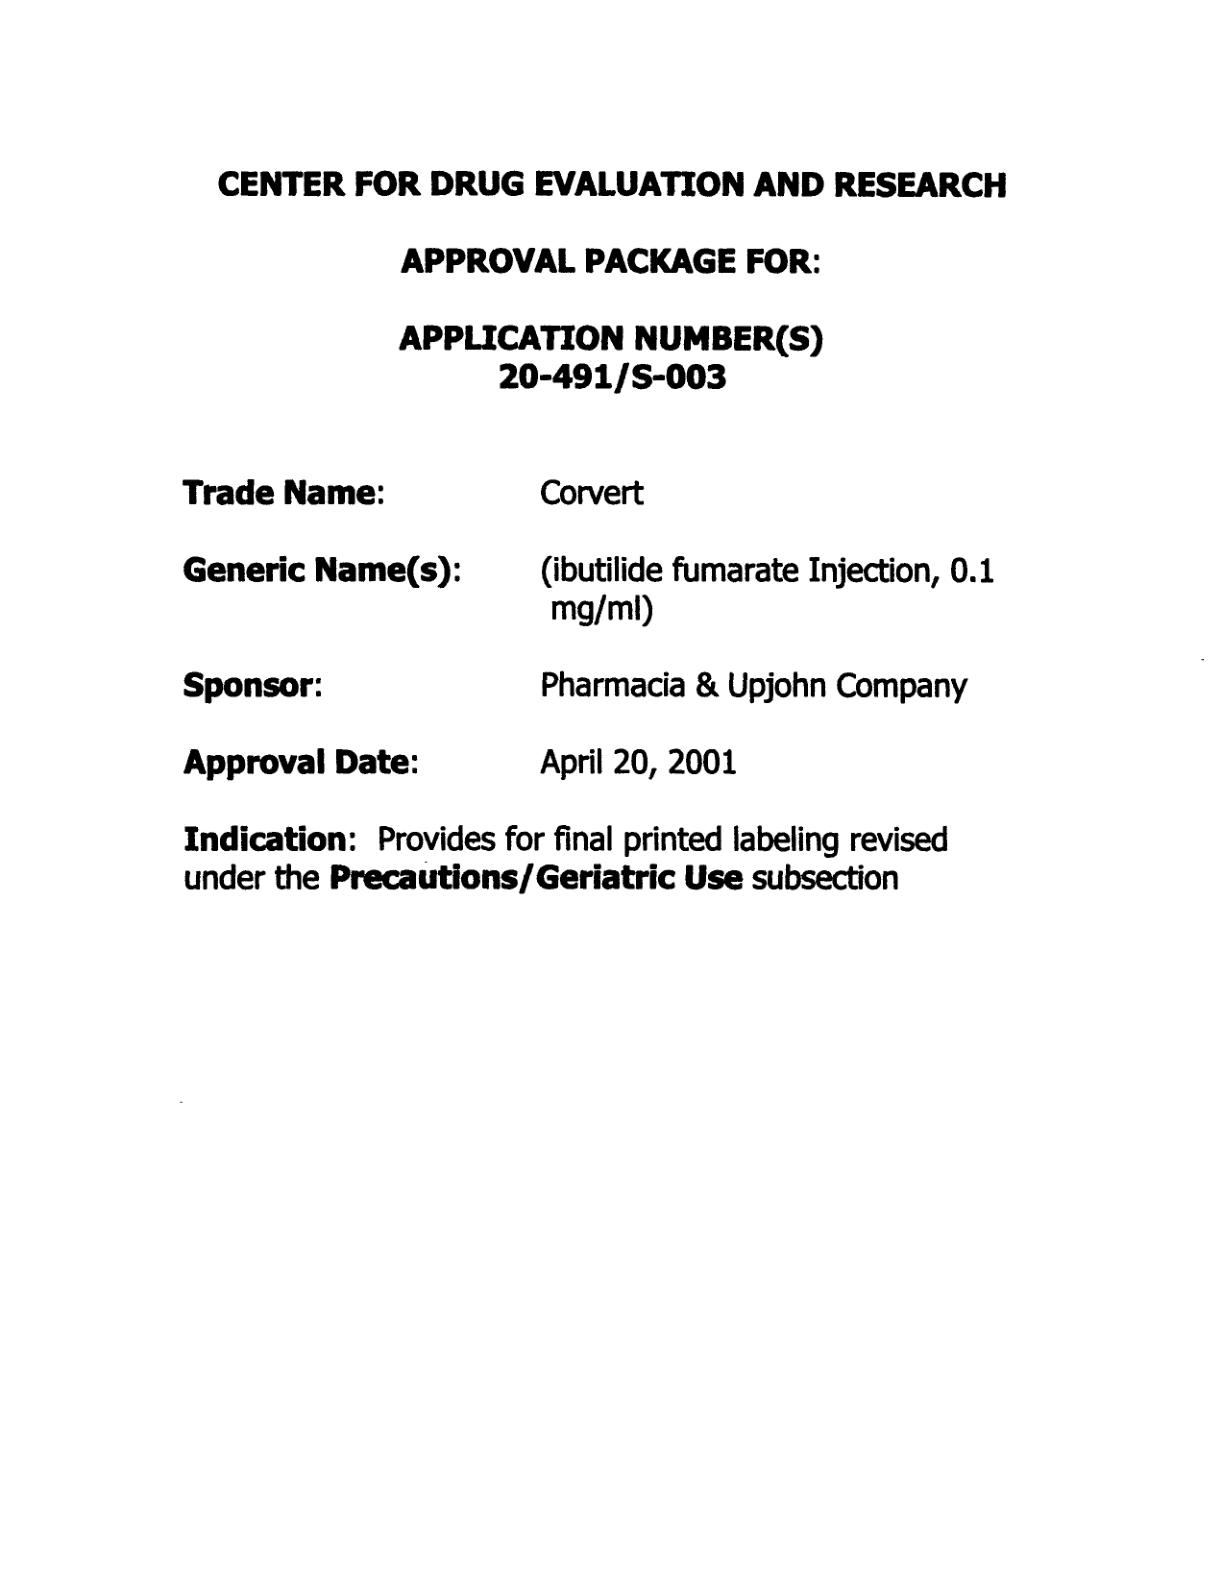nolines: (178, 475, 997, 786)
